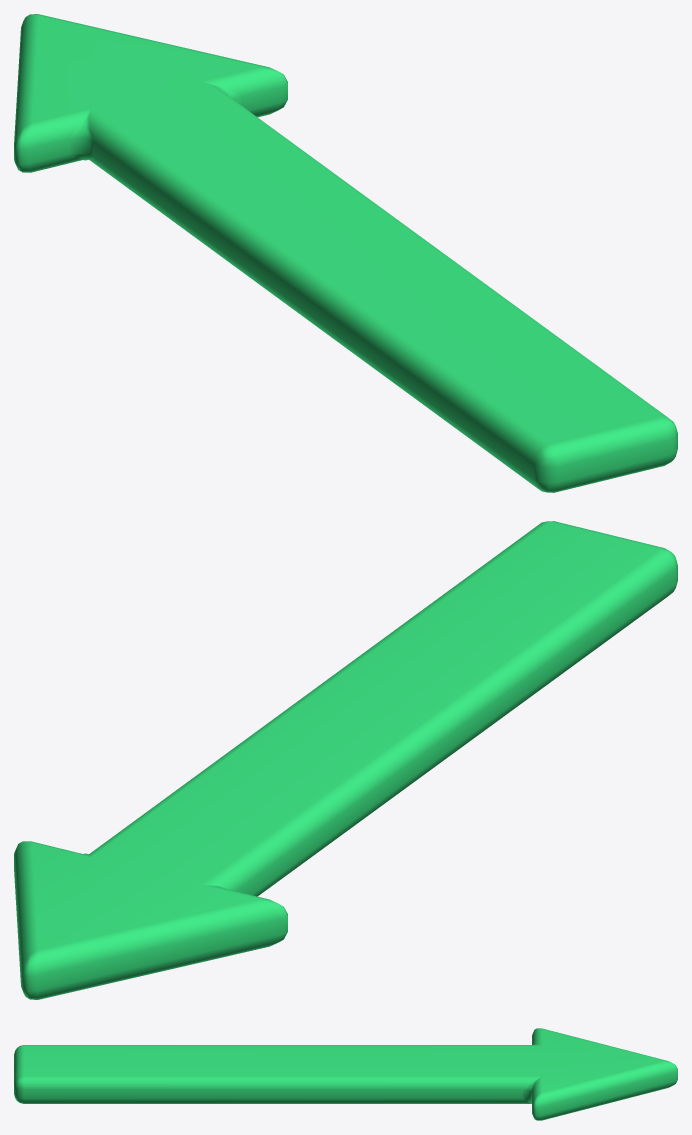
File: arrow.fbx
3 renders of one model, top to bottom at view 1: azimuth 30°, elevation 25°; view 2: azimuth 150°, elevation 25°; view 3: azimuth 270°, elevation 25°, orthographic. The views are drawn at different scales.
Parts seen in each view (by area): view 1: pasted__Plane.001; view 2: pasted__Plane.001; view 3: pasted__Plane.001.
Part boxes in pixels (x1,y1,x2,y2): pasted__Plane.001: (14,14,677,492); pasted__Plane.001: (14,521,677,999); pasted__Plane.001: (14,1028,677,1120).
Bounding box in the file's own units: 0.3682 × 0.0617 × 1.38.
